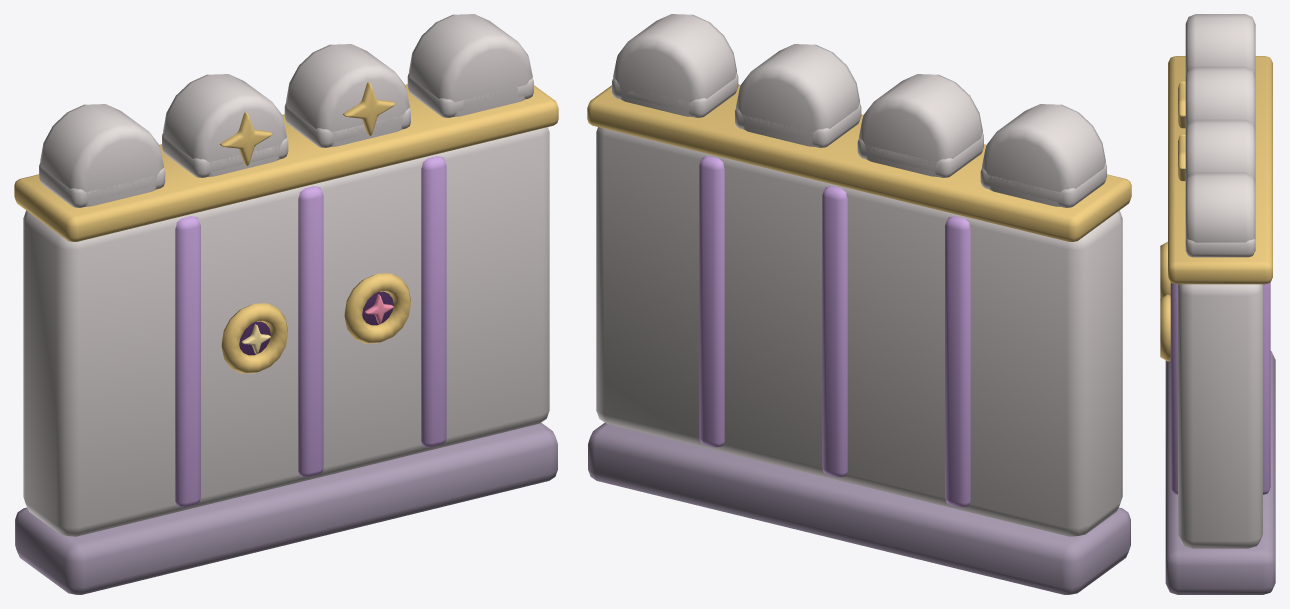
Rendered from WallSegment.glb.
3 views of the same model, side by side, from view 1: azimuth 30°, elevation 25°; view 2: azimuth 150°, elevation 25°; view 3: azimuth 270°, elevation 25° (orthographic). The views are drawn at different scales.
Visible parts, largest first — view 1: WallSegment; view 2: WallSegment; view 3: WallSegment.
Boxes of the visible parts, <box> form: WallSegment: <box>14,14,558,594</box>; WallSegment: <box>587,14,1131,594</box>; WallSegment: <box>1160,14,1275,594</box>.
Bounding box in the file's own units: 2 × 1.75 × 0.4603.
